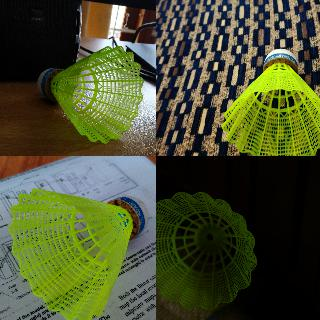shuttlecock: (8, 186, 148, 319), (156, 192, 257, 311), (220, 48, 319, 155), (38, 46, 142, 144)
